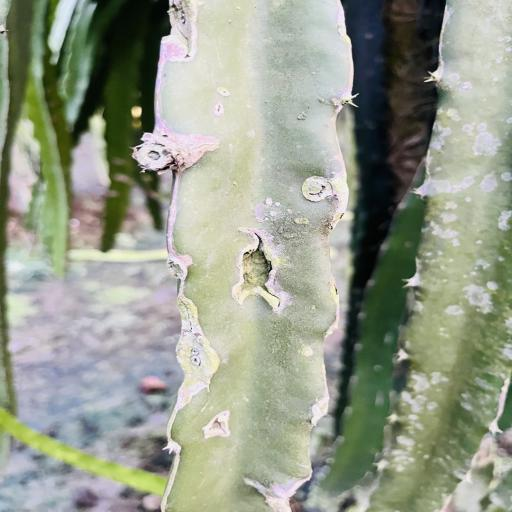stemcanker: (256, 197, 292, 225), (208, 79, 230, 117), (489, 30, 512, 65), (449, 70, 470, 97), (188, 346, 204, 368), (238, 134, 262, 147), (489, 66, 503, 86), (318, 122, 334, 132), (433, 167, 447, 177), (230, 180, 240, 192)
